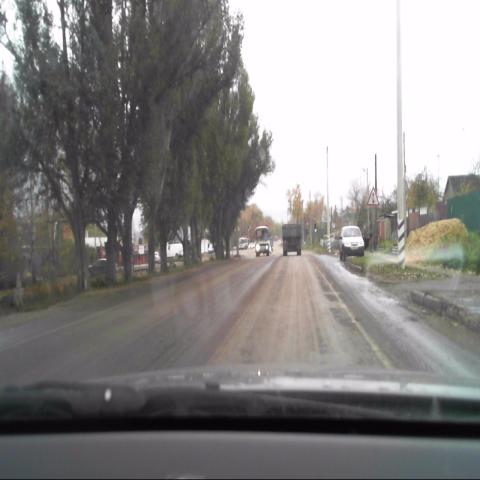1_8: (367, 185, 379, 207)
